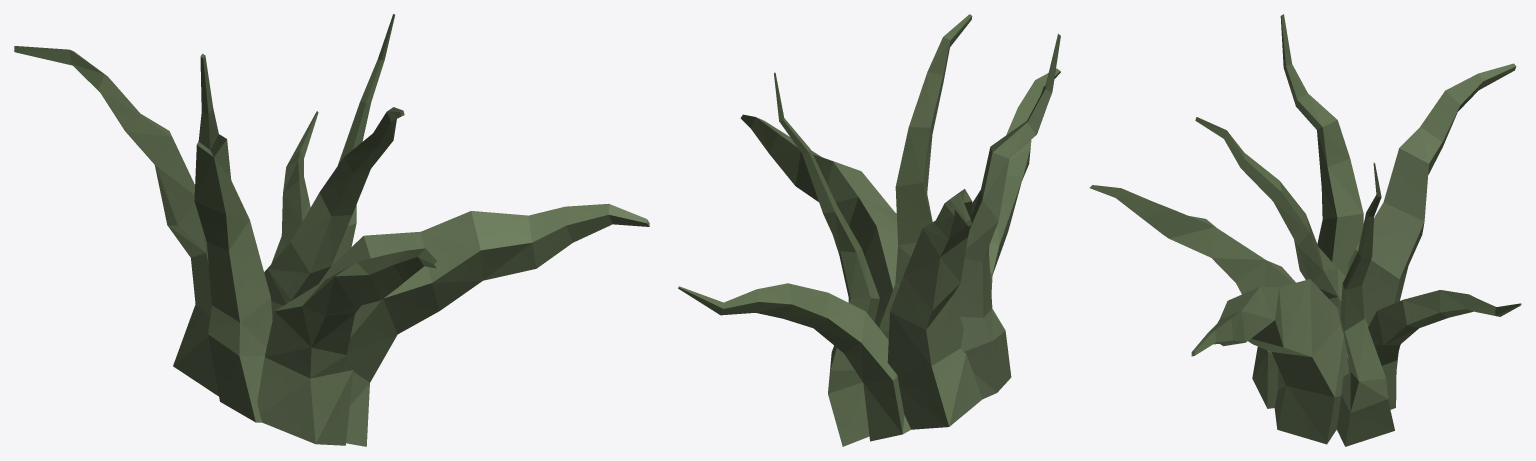
Rendered from grass_green_5.obj.
The picture shows the model from 3 angles, left to right: view 1: azimuth 30°, elevation 25°; view 2: azimuth 150°, elevation 25°; view 3: azimuth 270°, elevation 25°; orthographic projection. The views are drawn at different scales.
Visible parts, largest first — view 1: grass_green_5_Mesh; view 2: grass_green_5_Mesh; view 3: grass_green_5_Mesh.
Boxes of the visible parts, x1,y1,x2,y2 form: grass_green_5_Mesh: (14,14,649,446); grass_green_5_Mesh: (678,14,1060,446); grass_green_5_Mesh: (1090,14,1521,446).
Size of the model in its own units: 0.6657 by 0.6337 by 0.6893.
